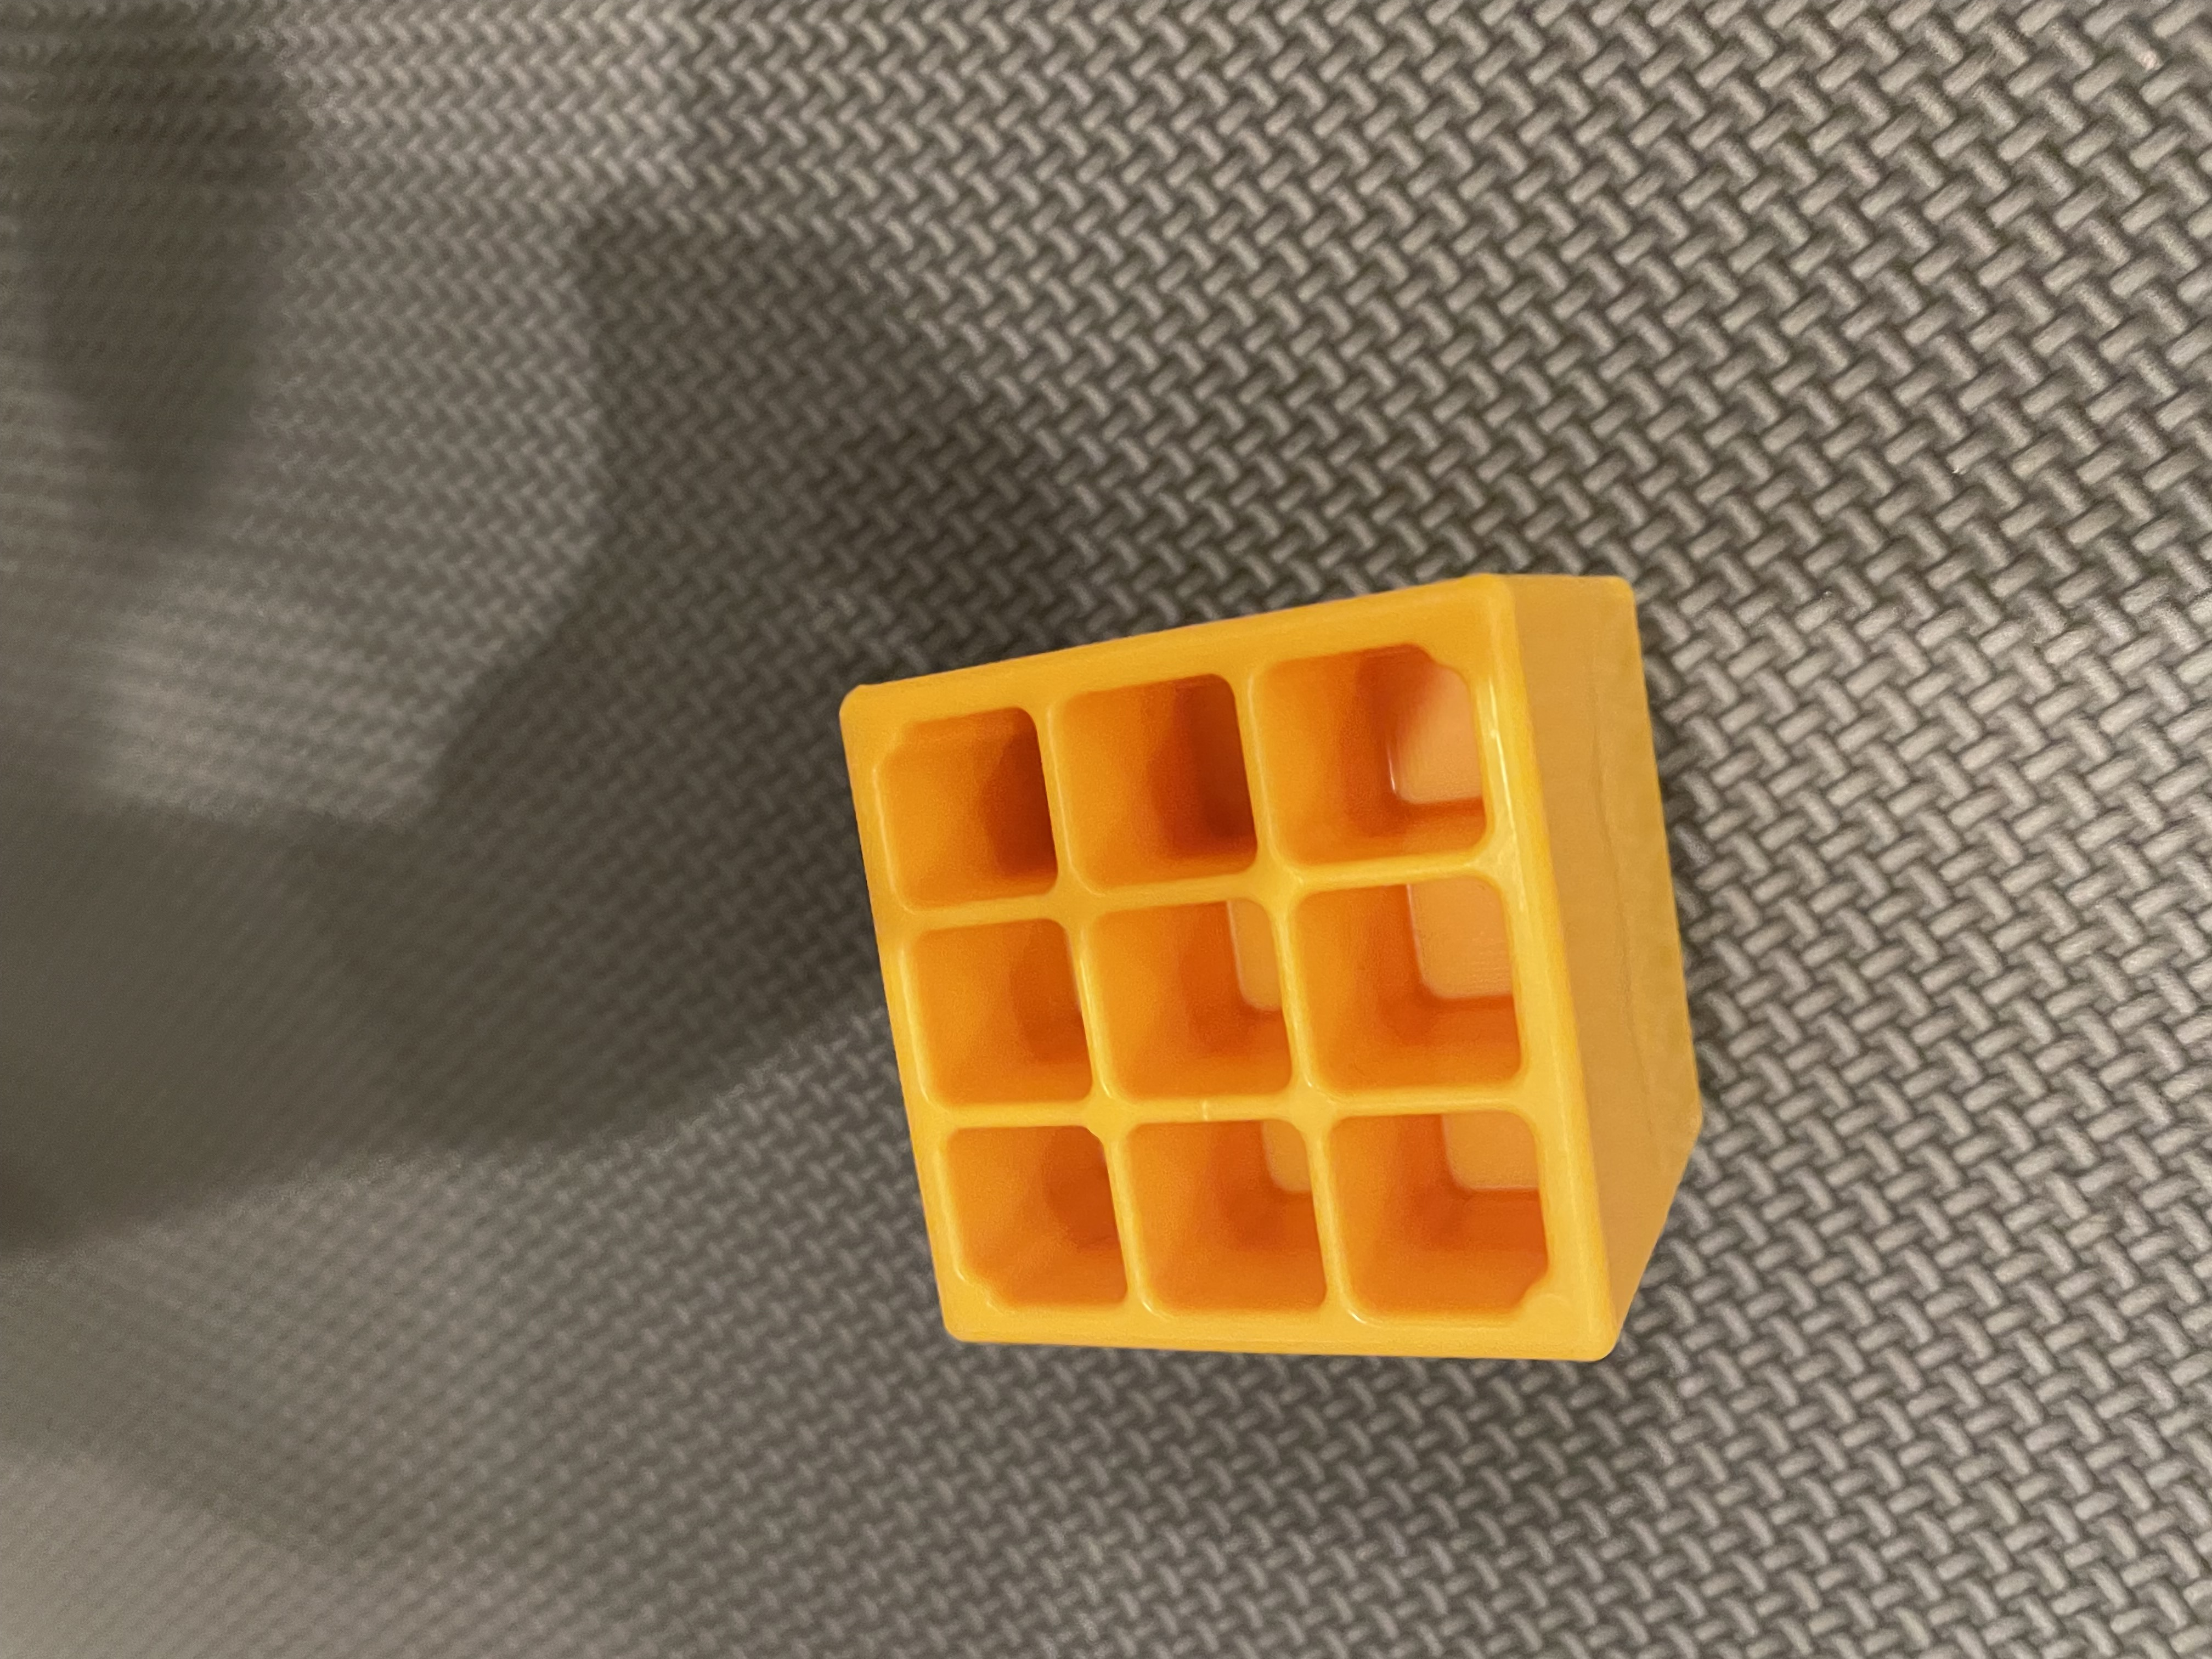cube: (756, 547, 1763, 1441)
